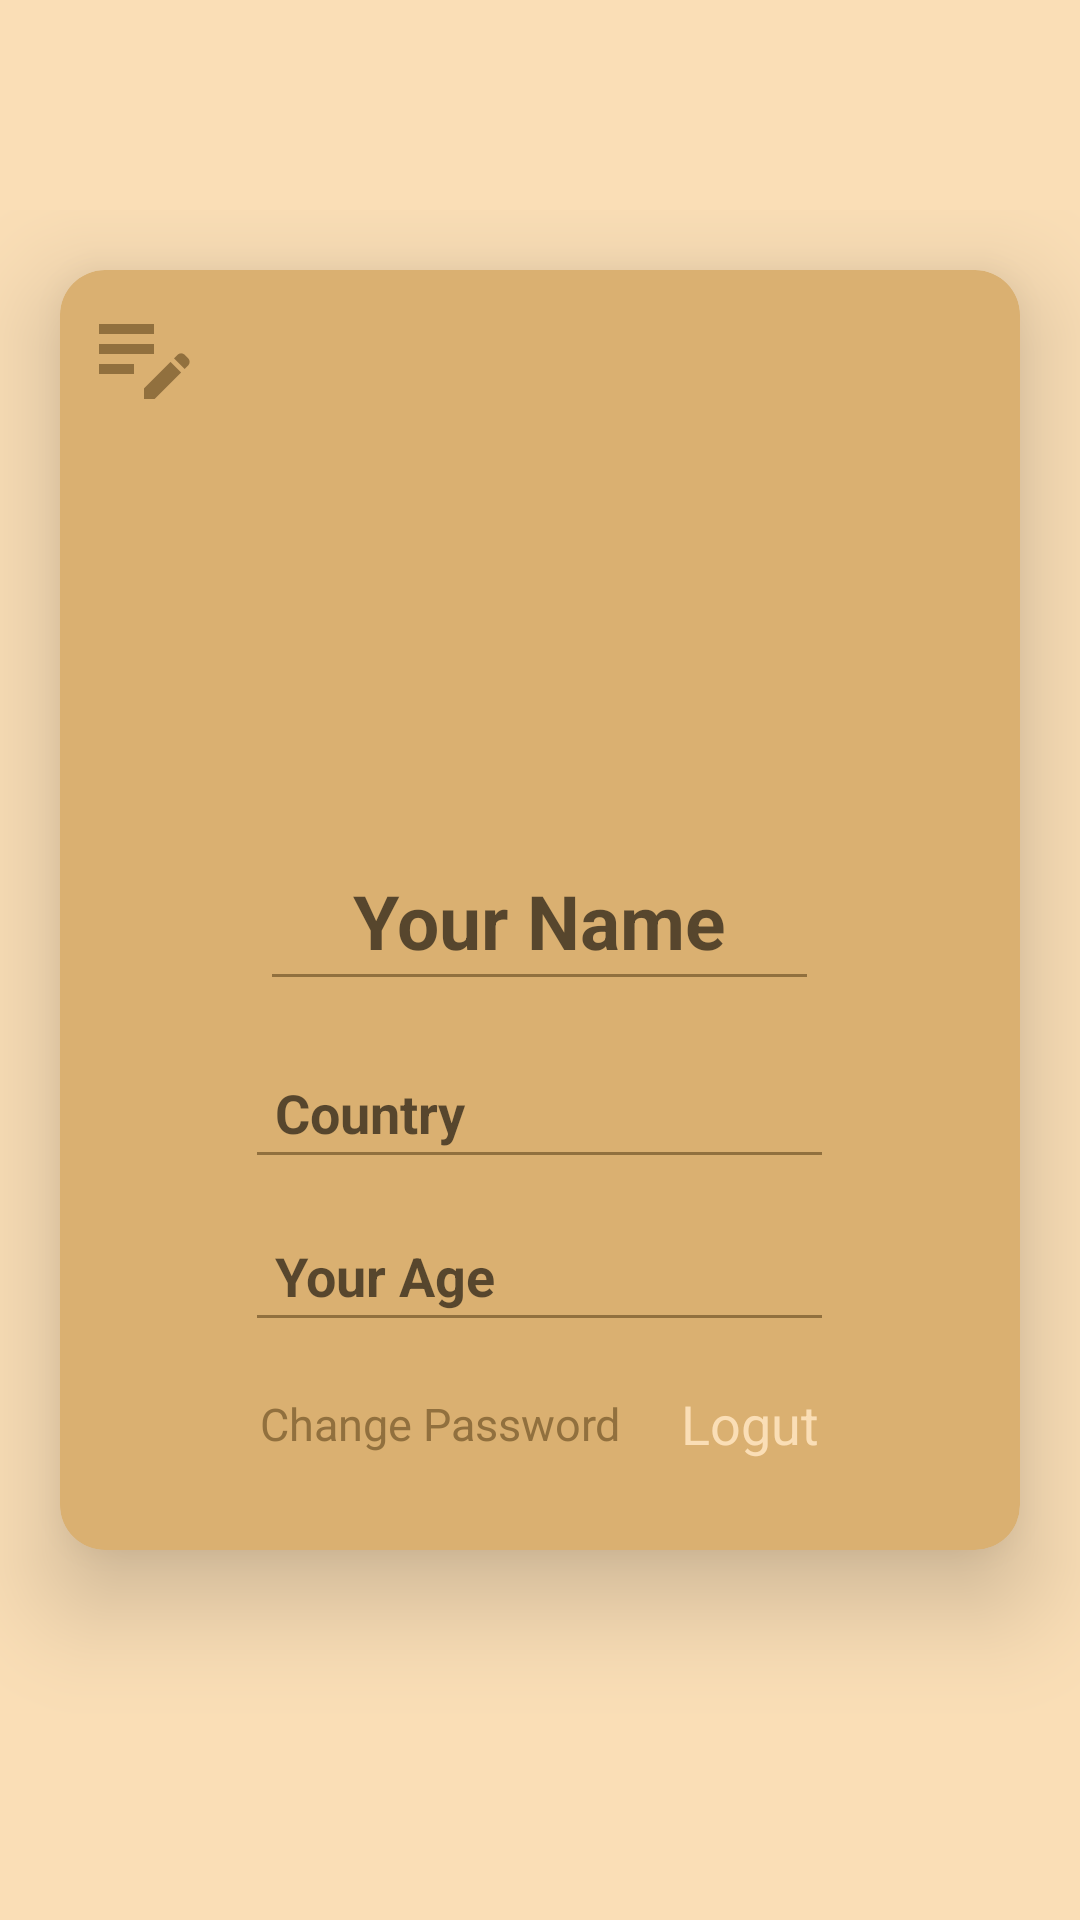

Icon click points for this 1080*1920 phone screenshot, format (x,y):
edit: (144,361)
